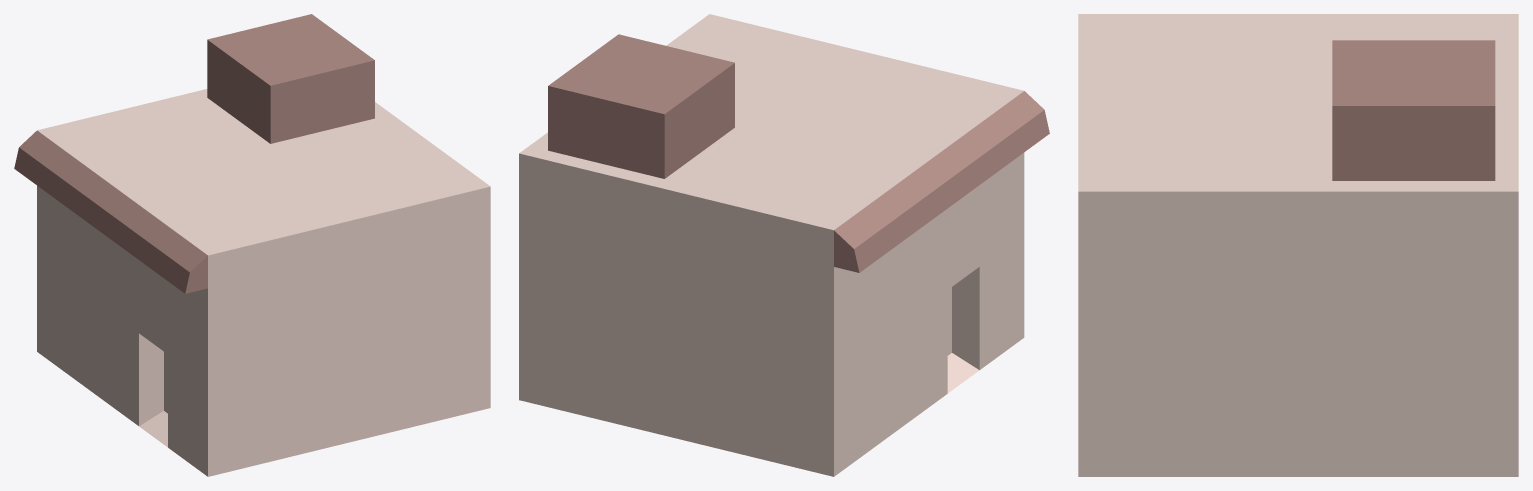
The model's file is CasaChica004.FBX.
The picture shows the model from 3 angles, left to right: view 1: azimuth 30°, elevation 25°; view 2: azimuth 150°, elevation 25°; view 3: azimuth 270°, elevation 25°; orthographic projection. The views are drawn at different scales.
Visible parts, largest first — view 1: CasaChica001; view 2: CasaChica001; view 3: CasaChica001.
Part boxes in pixels (x1,y1,x2,y2): CasaChica001: (14,14,490,476); CasaChica001: (519,14,1049,476); CasaChica001: (1078,14,1518,476).
Bounding box in the file's own units: 470 × 411 × 455.
